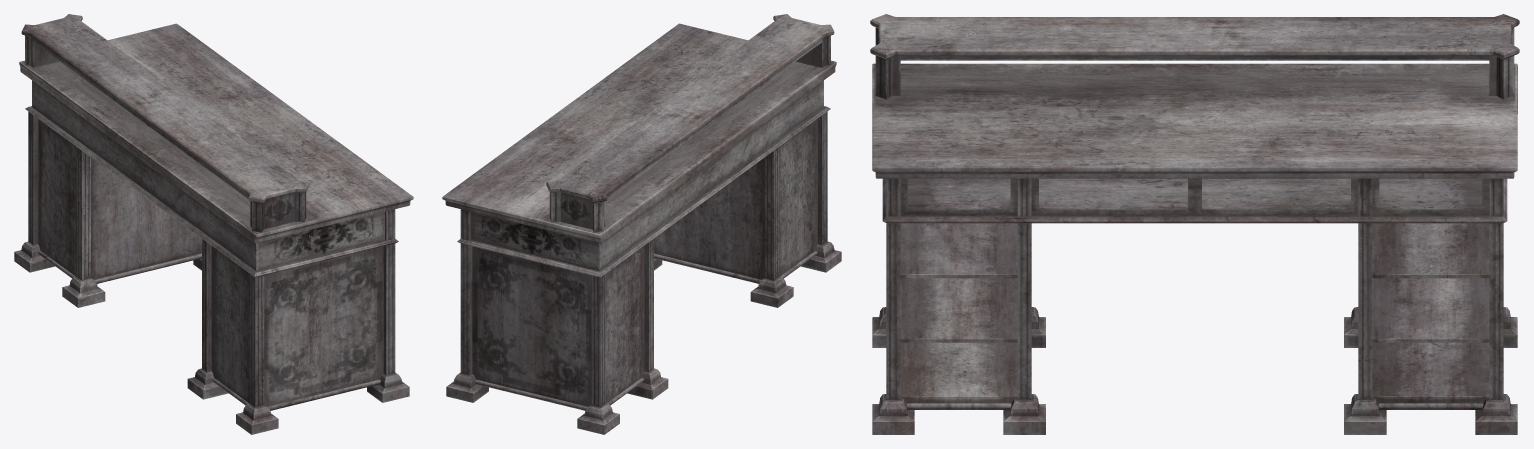
File: Desk.fbx
The picture shows the model from 3 angles, left to right: view 1: azimuth 30°, elevation 25°; view 2: azimuth 150°, elevation 25°; view 3: azimuth 270°, elevation 25°; orthographic projection. The views are drawn at different scales.
Visible parts, largest first — view 1: Mesh_Desk_01_LOD0; view 2: Mesh_Desk_01_LOD0; view 3: Mesh_Desk_01_LOD0.
Part boxes in pixels (box(x1,y1,x2,y2)): Mesh_Desk_01_LOD0: box(14, 14, 413, 434); Mesh_Desk_01_LOD0: box(442, 14, 841, 434); Mesh_Desk_01_LOD0: box(870, 14, 1519, 434).
Bounding box in the file's own units: 72 × 99 × 183.
